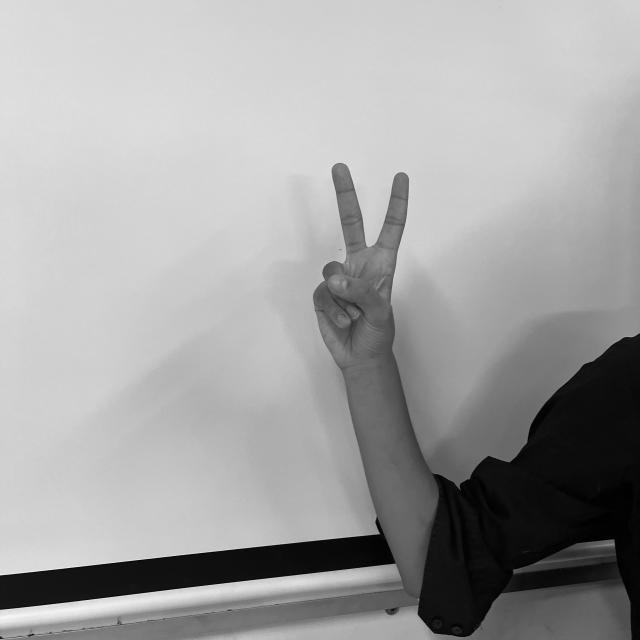Letra V: (310, 157, 412, 364)
